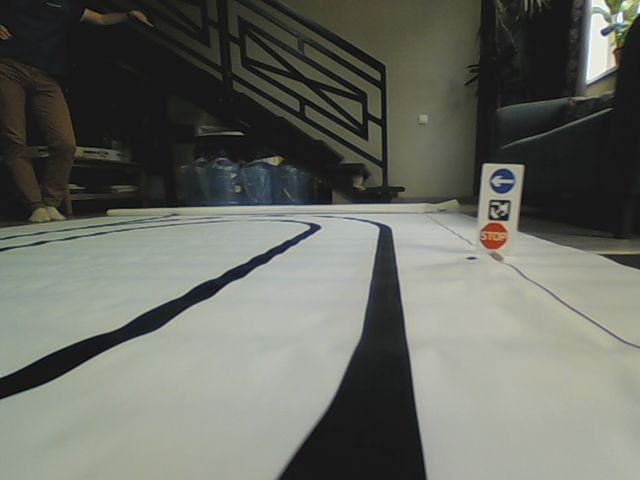Stop: (478, 222, 510, 251)
